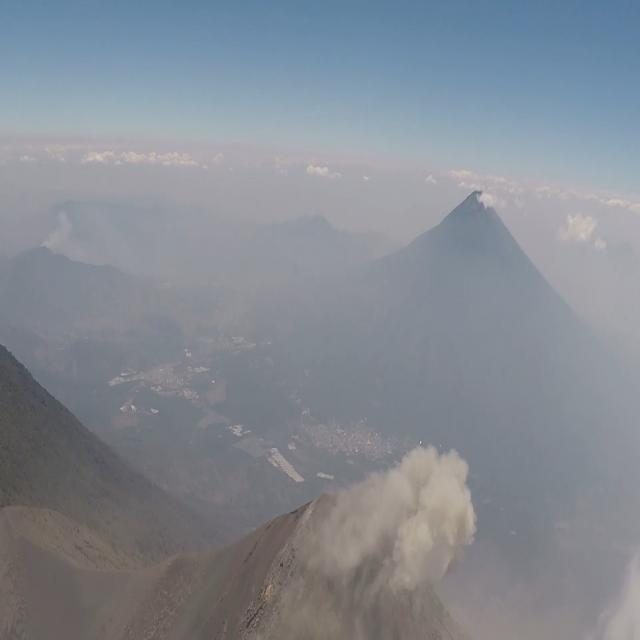Plume: (305, 446, 482, 600)
Summit: (177, 484, 496, 640)
